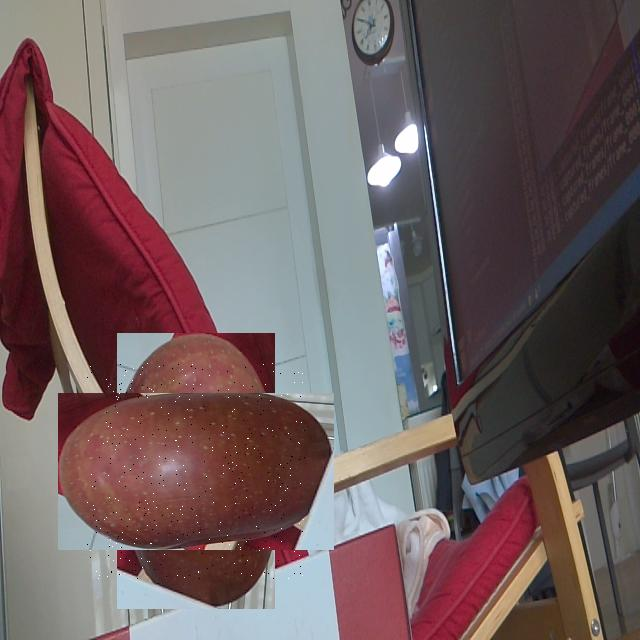apple: (87, 363, 305, 579)
